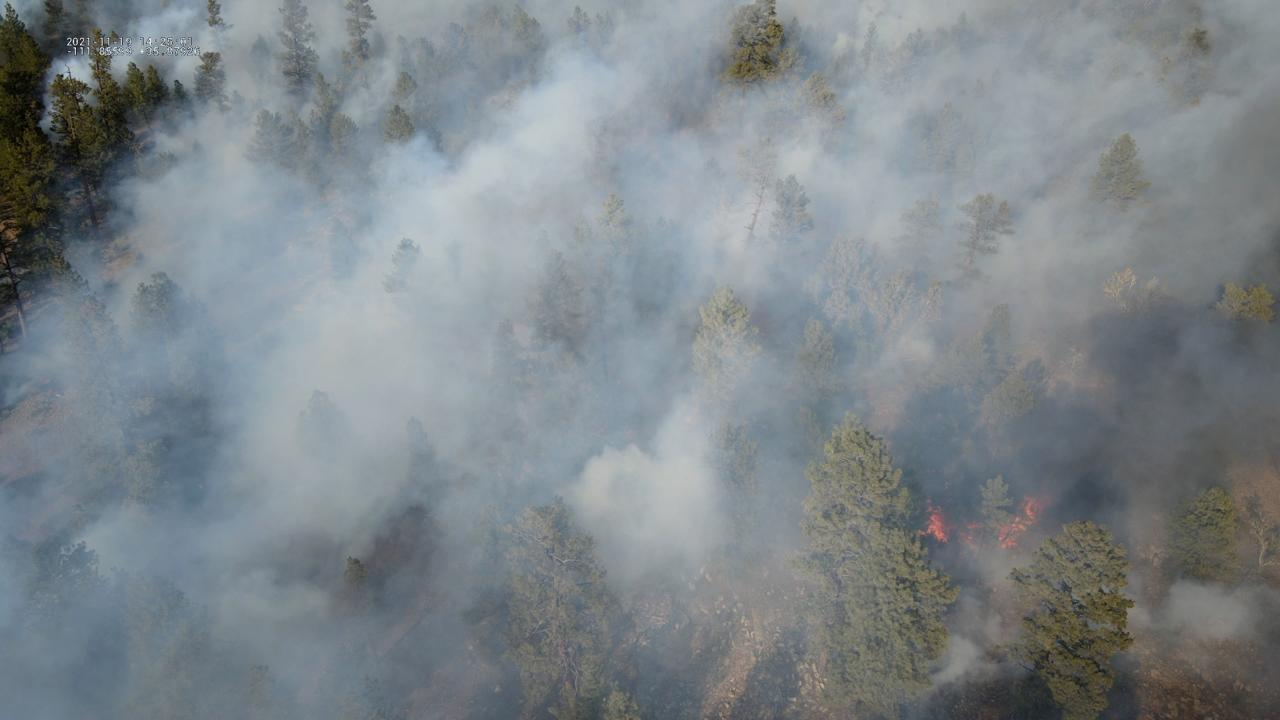fire: (993, 496, 1047, 552), (915, 495, 952, 545), (956, 521, 980, 551)
smoke: (0, 0, 1280, 720)
